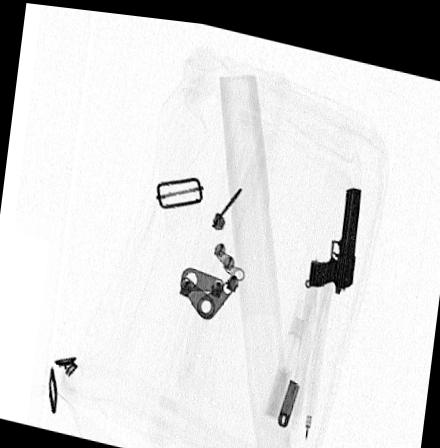Gun: (306, 178, 361, 289)
